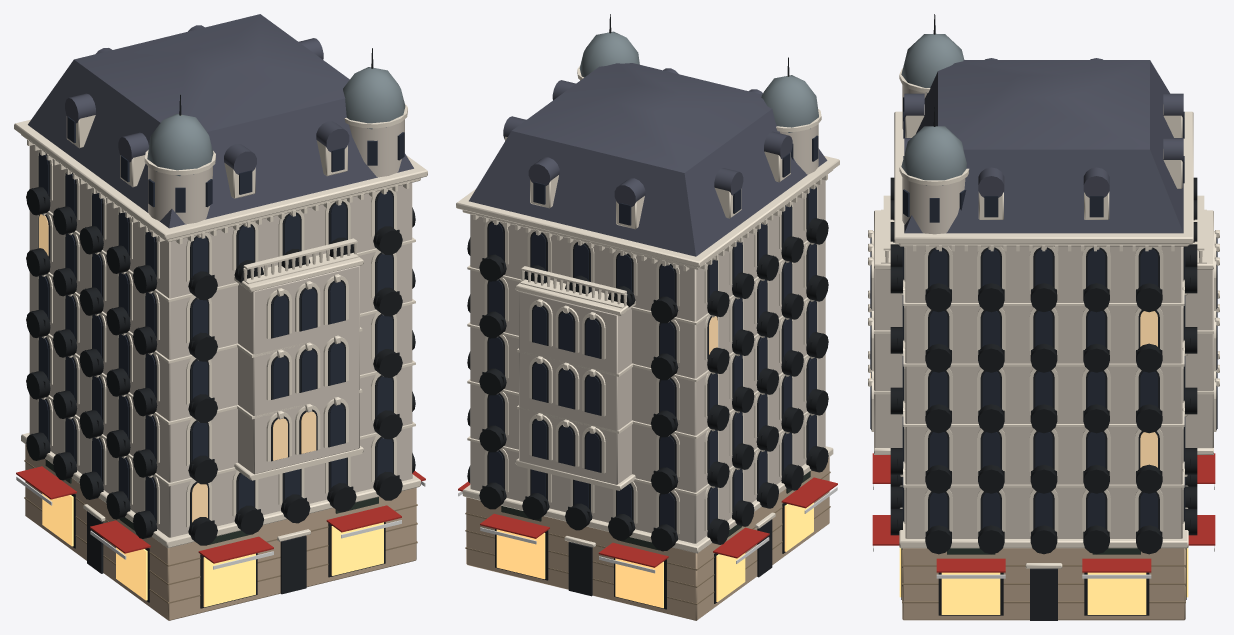
The model's file is building_nv_a.fbx.
The picture shows the model from 3 angles, left to right: view 1: azimuth 30°, elevation 25°; view 2: azimuth 150°, elevation 25°; view 3: azimuth 270°, elevation 25°; orthographic projection. The views are drawn at different scales.
Parts seen in each view (by area): view 1: building_nv_a; view 2: building_nv_a; view 3: building_nv_a.
Part boxes in pixels (bbox=[...]): building_nv_a: bbox=[14, 14, 427, 620]; building_nv_a: bbox=[456, 14, 839, 620]; building_nv_a: bbox=[868, 14, 1219, 620].
Bounding box in the file's own units: 16.94 × 27.3 × 17.39.
